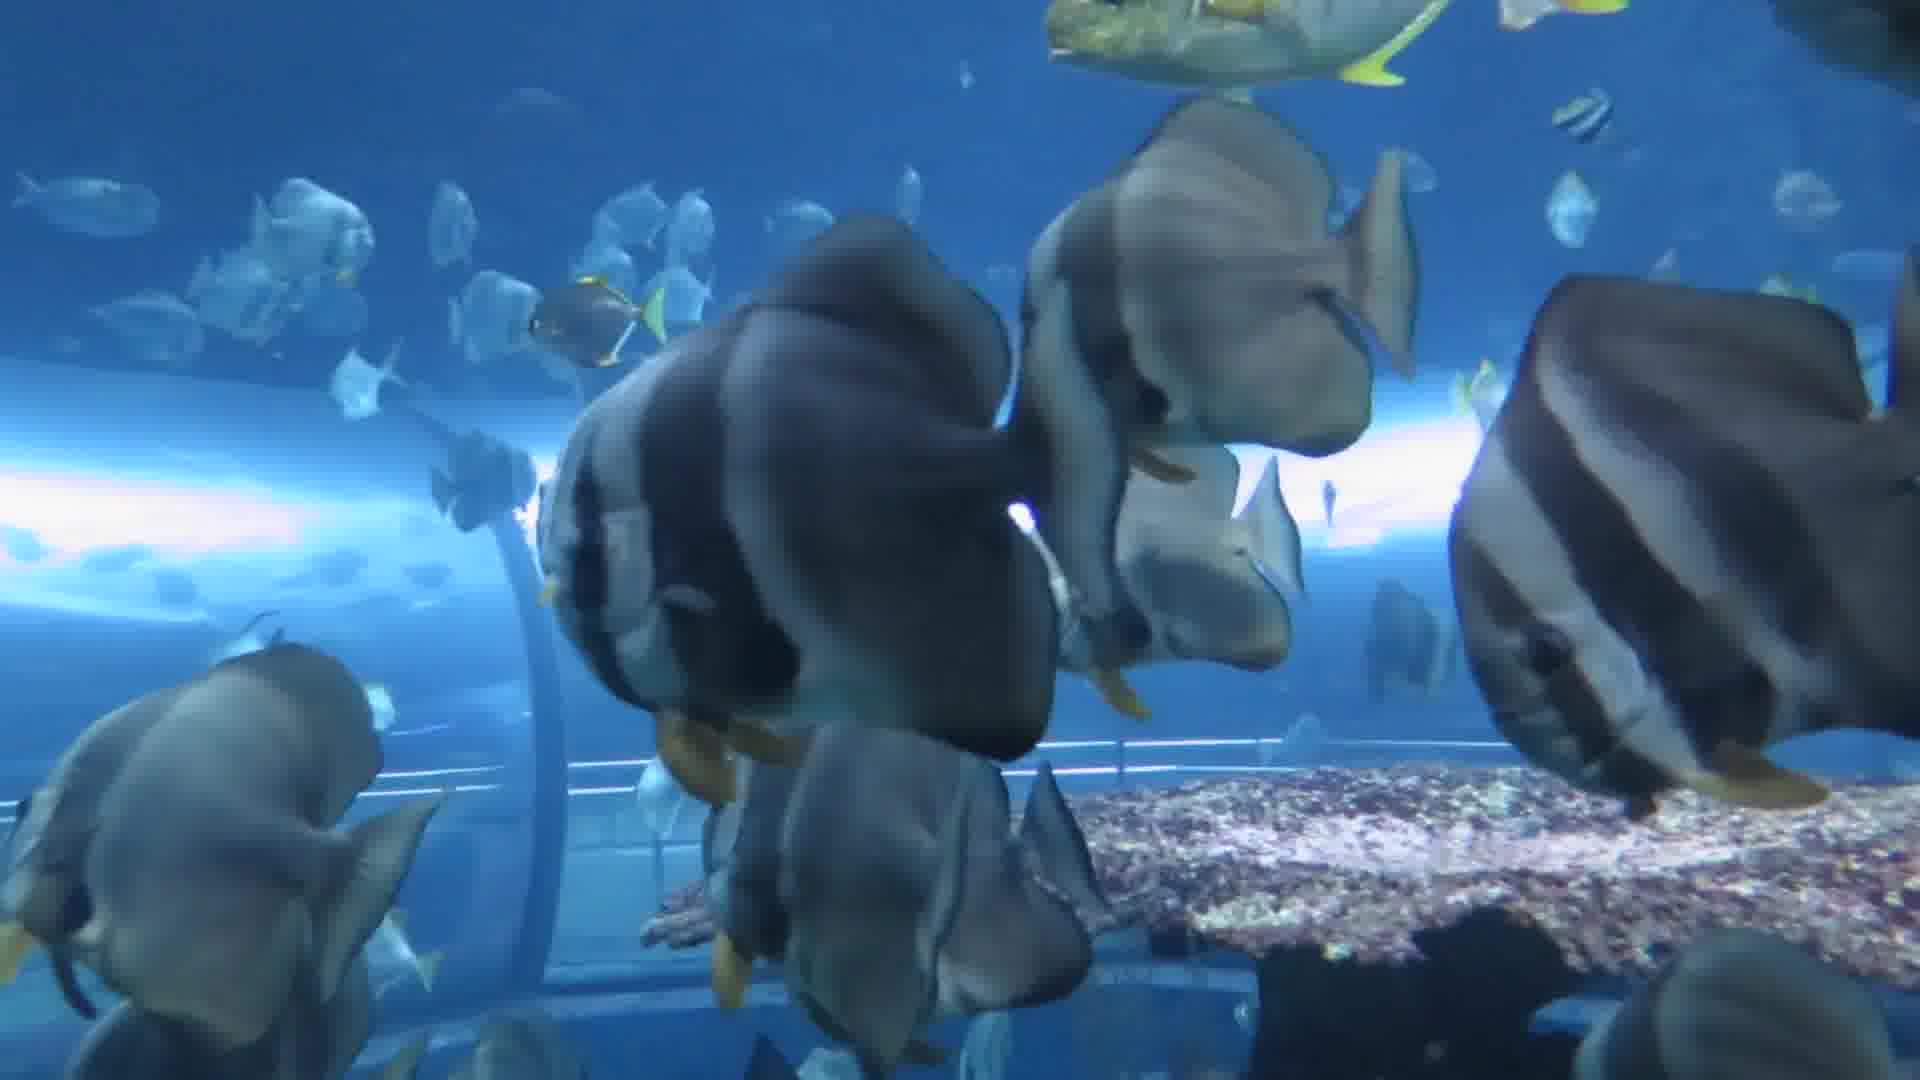Platax teira: (1400, 262, 1920, 861), (542, 202, 1060, 800), (1399, 260, 1917, 858), (1, 480, 518, 1080)
